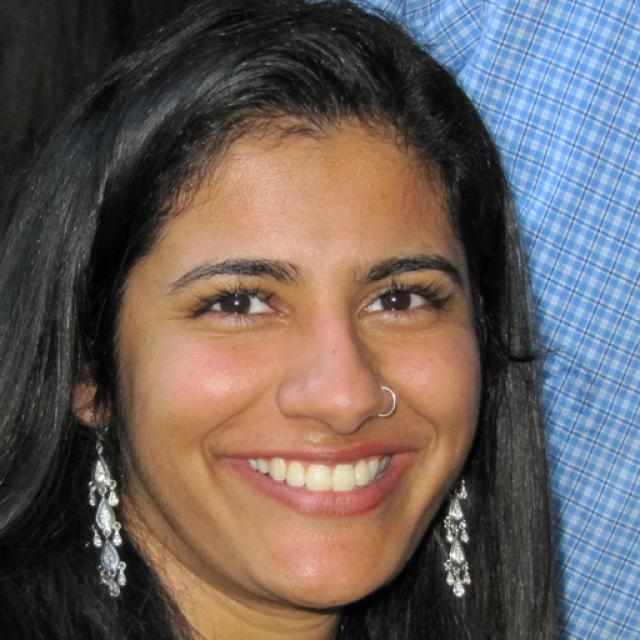happy: (115, 119, 485, 604)
